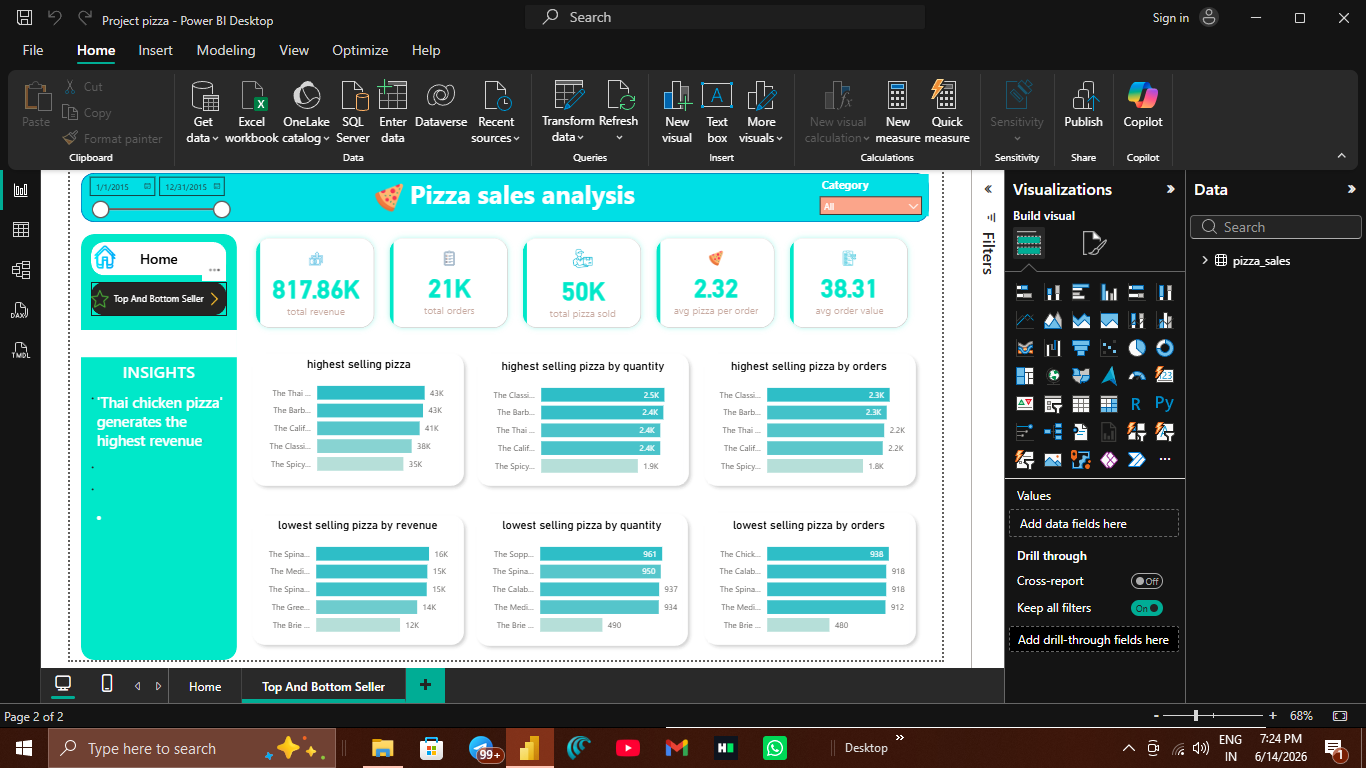

This screenshot's page, from the dashboard's own definition file:
{"tool":"powerbi","page":{"name":"Top And Bottom Seller","canvas":[1280,720],"ordinal":1},"visuals":[{"type":"cardVisual","fields":{"Data":["pizza_sales.total revenue","pizza_sales.total orders","pizza_sales.total pizza sold","pizza_sales.avg pizza per order","pizza_sales.avg order value"]},"box":[245.4,72,1016.8,188.1],"z":0},{"type":"shape","box":[16.4,4.9,1245.6,72],"z":1000},{"type":"textbox","box":[36.7,4.4,1215.2,72],"z":2000},{"type":"image","box":[411.4,19.1,114.6,42.6],"z":3000},{"type":"shape","box":[16.2,94,229.2,626],"z":4000},{"type":"textbox","box":[16.4,322.5,229.2,396.1],"z":5000},{"type":"textbox","box":[48.5,274.8,164.6,47],"z":6000},{"type":"pageNavigator","box":[30.9,105.8,199.8,50],"z":7000},{"type":"pageNavigator","box":[30.9,164.6,199.8,50],"z":8000},{"type":"shape","box":[16.2,235.1,229.2,39.7],"z":9000},{"type":"image","box":[202.8,171.9,19.1,35.3],"z":10000},{"type":"image","box":[30.9,110.2,41.1,30.9],"z":11000},{"type":"image","box":[30.9,174.9,26.4,29.4],"z":12000},{"type":"image","box":[30.9,114.6,41.1,30.9],"z":13000},{"type":"shape","box":[258.6,260.1,329.1,213.1],"z":14000},{"type":"shape","box":[258.6,498.1,329.1,208.7],"z":15000},{"type":"shape","box":[589.2,260.1,329.1,213.1],"z":16000},{"type":"shape","box":[922.8,260.1,329.1,213.1],"z":17000},{"type":"shape","box":[587.8,495.2,329.1,213.1],"z":18000},{"type":"shape","box":[922.8,493.7,329.1,213.1],"z":19000},{"type":"barChart","title":"highest selling pizza","fields":{"Category":["pizza_sales.pizza_name"],"Y":["pizza_sales.total revenue"]},"box":[276.6,275,296.3,183.3],"z":20000},{"type":"barChart","title":"highest selling pizza by quantity","fields":{"Y":["pizza_sales.total pizza sold"],"Category":["pizza_sales.pizza_name"]},"box":[605.6,278.3,296.3,183.3],"z":21000},{"type":"barChart","title":"highest selling pizza by orders","fields":{"Category":["pizza_sales.pizza_name"],"Y":["pizza_sales.total orders"]},"box":[937.9,278.3,296.3,183.3],"z":22000},{"type":"barChart","title":"lowest selling pizza by revenue","fields":{"Category":["pizza_sales.pizza_name"],"Y":["pizza_sales.total revenue"]},"box":[275,510.7,296.3,183.3],"z":23000},{"type":"barChart","title":"lowest selling pizza by quantity","fields":{"Category":["pizza_sales.pizza_name"],"Y":["pizza_sales.total pizza sold"]},"box":[604,510.7,296.3,183.3],"z":24000},{"type":"barChart","title":"lowest selling pizza by orders","fields":{"Category":["pizza_sales.pizza_name"],"Y":["pizza_sales.total orders"]},"box":[937.9,510.7,296.3,183.3],"z":25000},{"type":"slicer","fields":{"Values":["pizza_sales.pizza_category"]},"box":[1091.8,5.9,170.4,61.7],"z":26000},{"type":"slicer","fields":{"Values":["pizza_sales.order_date"]},"box":[16.2,0,227.8,72],"z":27000}]}

Visuals, with their boxes on the page's 1280x720 design canvas (x1, y1, x2, y2). These are canvas units, not pixel positions in the 1366x768 screenshot, which may show the page scaled, cropped or inside an application window:
cardVisual - pizza_sales.total revenue x pizza_sales.total orders: left=245, top=72, right=1262, bottom=260
shape: left=16, top=5, right=1262, bottom=77
textbox: left=37, top=4, right=1252, bottom=76
image: left=411, top=19, right=526, bottom=62
shape: left=16, top=94, right=245, bottom=720
textbox: left=16, top=322, right=246, bottom=719
textbox: left=48, top=275, right=213, bottom=322
pageNavigator: left=31, top=106, right=231, bottom=156
pageNavigator: left=31, top=165, right=231, bottom=215
shape: left=16, top=235, right=245, bottom=275
image: left=203, top=172, right=222, bottom=207
image: left=31, top=110, right=72, bottom=141
image: left=31, top=175, right=57, bottom=204
image: left=31, top=115, right=72, bottom=146
shape: left=259, top=260, right=588, bottom=473
shape: left=259, top=498, right=588, bottom=707
shape: left=589, top=260, right=918, bottom=473
shape: left=923, top=260, right=1252, bottom=473
shape: left=588, top=495, right=917, bottom=708
shape: left=923, top=494, right=1252, bottom=707
"highest selling pizza" barChart: left=277, top=275, right=573, bottom=458
"highest selling pizza by quantity" barChart: left=606, top=278, right=902, bottom=462
"highest selling pizza by orders" barChart: left=938, top=278, right=1234, bottom=462
"lowest selling pizza by revenue" barChart: left=275, top=511, right=571, bottom=694
"lowest selling pizza by quantity" barChart: left=604, top=511, right=900, bottom=694
"lowest selling pizza by orders" barChart: left=938, top=511, right=1234, bottom=694
slicer - pizza_sales.pizza_category: left=1092, top=6, right=1262, bottom=68
slicer - pizza_sales.order_date: left=16, top=0, right=244, bottom=72
